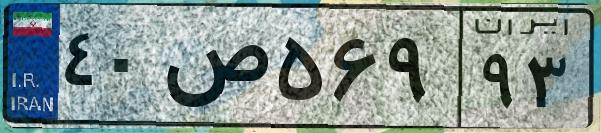0: (110, 28, 158, 98)
3: (525, 38, 570, 115)
4: (57, 26, 110, 100)
5: (270, 28, 330, 110)
6: (330, 28, 385, 110)
9: (385, 28, 445, 110), (475, 38, 525, 113)
ص: (158, 20, 270, 120)
